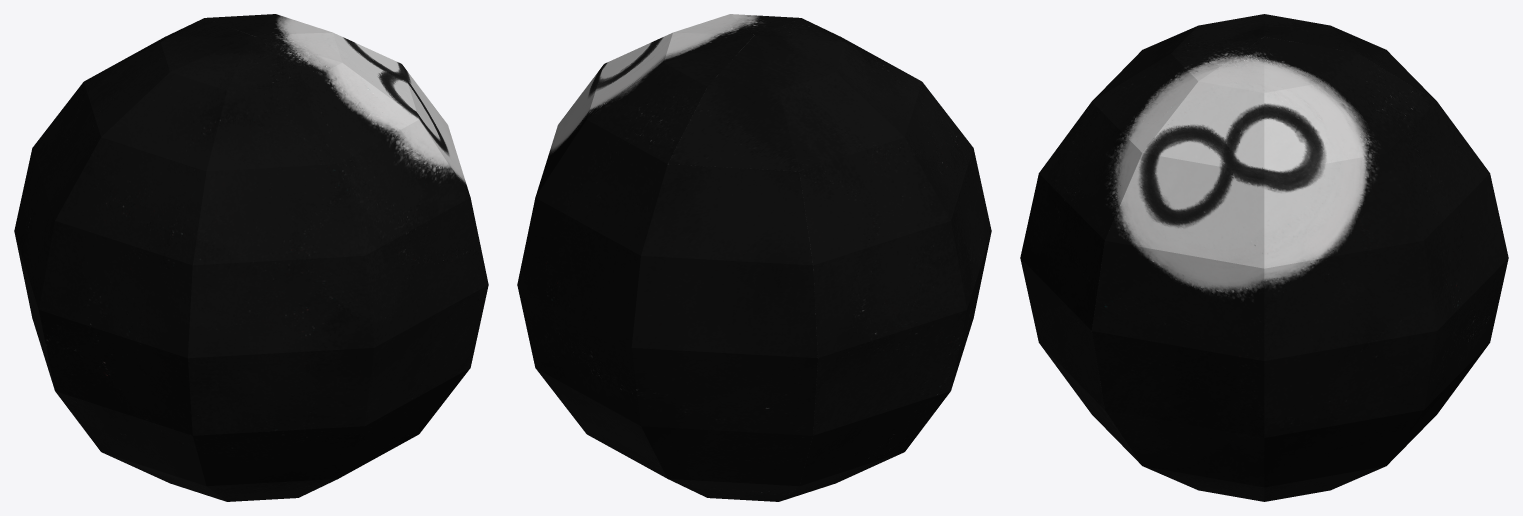
The model's file is 8_Ball.obj.
3 renders of one model, left to right at view 1: azimuth 30°, elevation 25°; view 2: azimuth 150°, elevation 25°; view 3: azimuth 270°, elevation 25°, orthographic.
Visible parts, largest first — view 1: UV_Sphere_UV_Sphere; view 2: UV_Sphere_UV_Sphere; view 3: UV_Sphere_UV_Sphere.
Part boxes in pixels (x1=…): UV_Sphere_UV_Sphere: x1=14, y1=14, x2=488, y2=501; UV_Sphere_UV_Sphere: x1=517, y1=14, x2=991, y2=501; UV_Sphere_UV_Sphere: x1=1020, y1=14, x2=1508, y2=501.
Bounding box in the file's own units: 1 × 1 × 1.
Materials: 1 (1 with a texture image).
